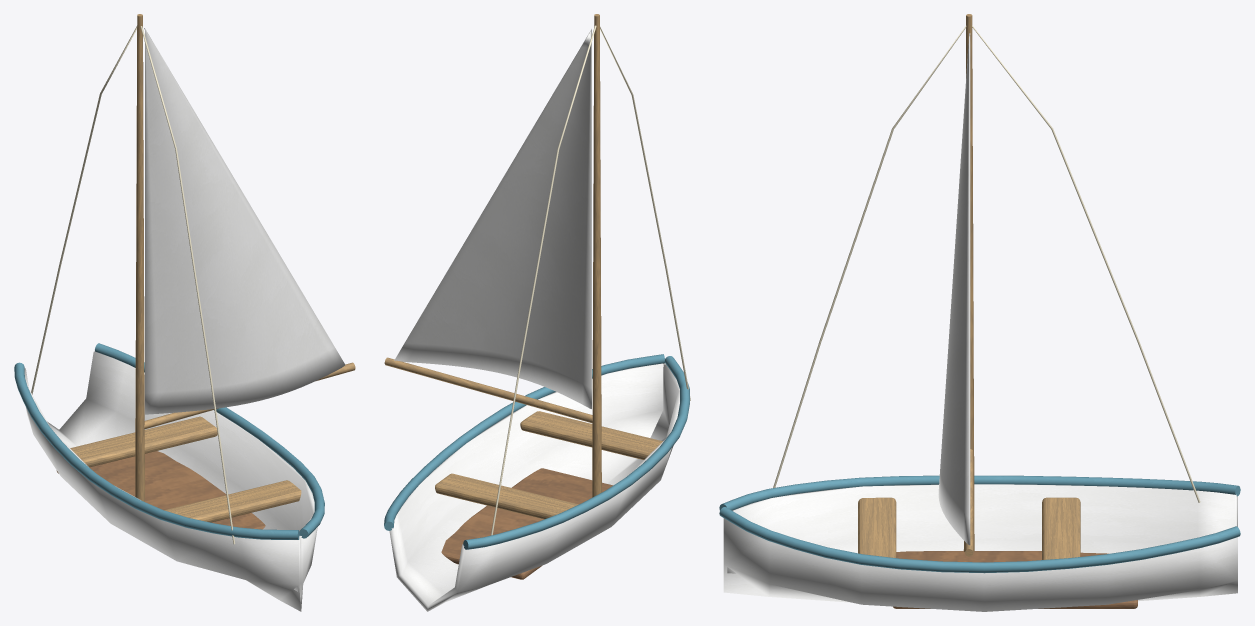
Rendered from sailboat.glb.
3 views of the same model, side by side, from view 1: azimuth 30°, elevation 25°; view 2: azimuth 150°, elevation 25°; view 3: azimuth 270°, elevation 25° (orthographic). The views are drawn at different scales.
Visible parts, largest first — view 1: sailboat; view 2: sailboat; view 3: sailboat.
Boxes of the visible parts, bbox=[...] form: sailboat: bbox=[14, 14, 355, 611]; sailboat: bbox=[384, 14, 690, 611]; sailboat: bbox=[719, 14, 1240, 611].
Size of the model in its own units: 2.05 by 4.08 by 3.39.
Materials: 1 (1 with a texture image).
